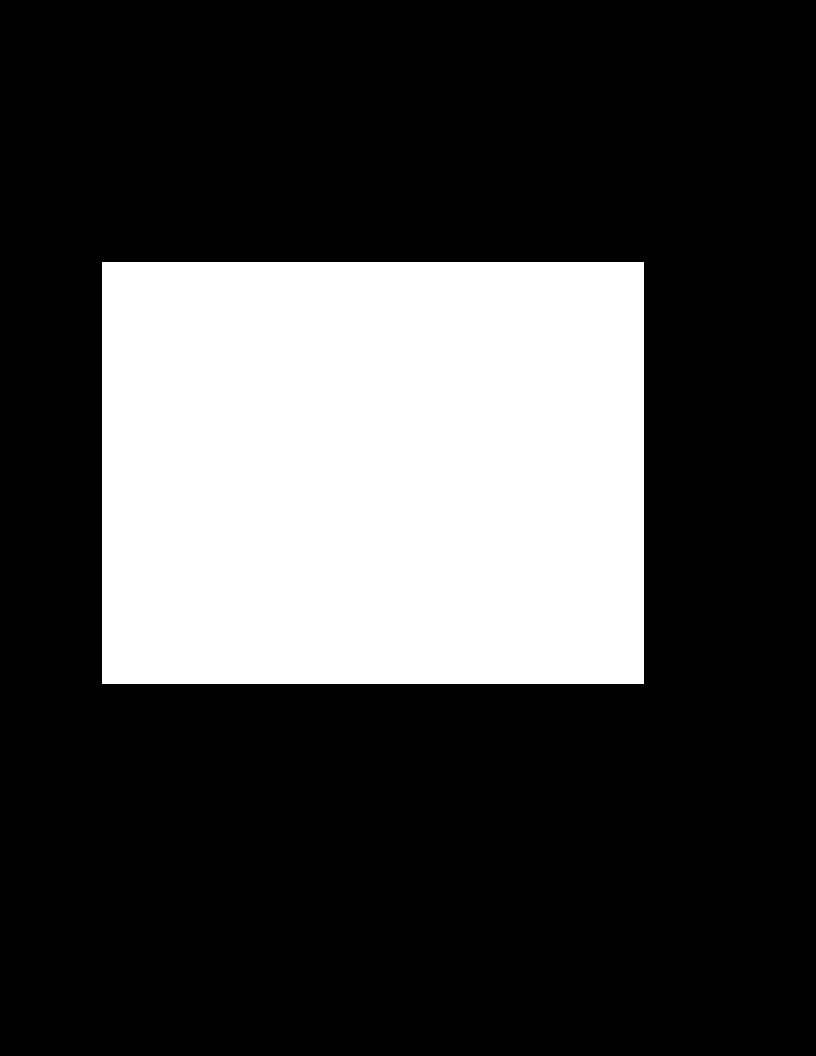table: (102, 262, 643, 683)
